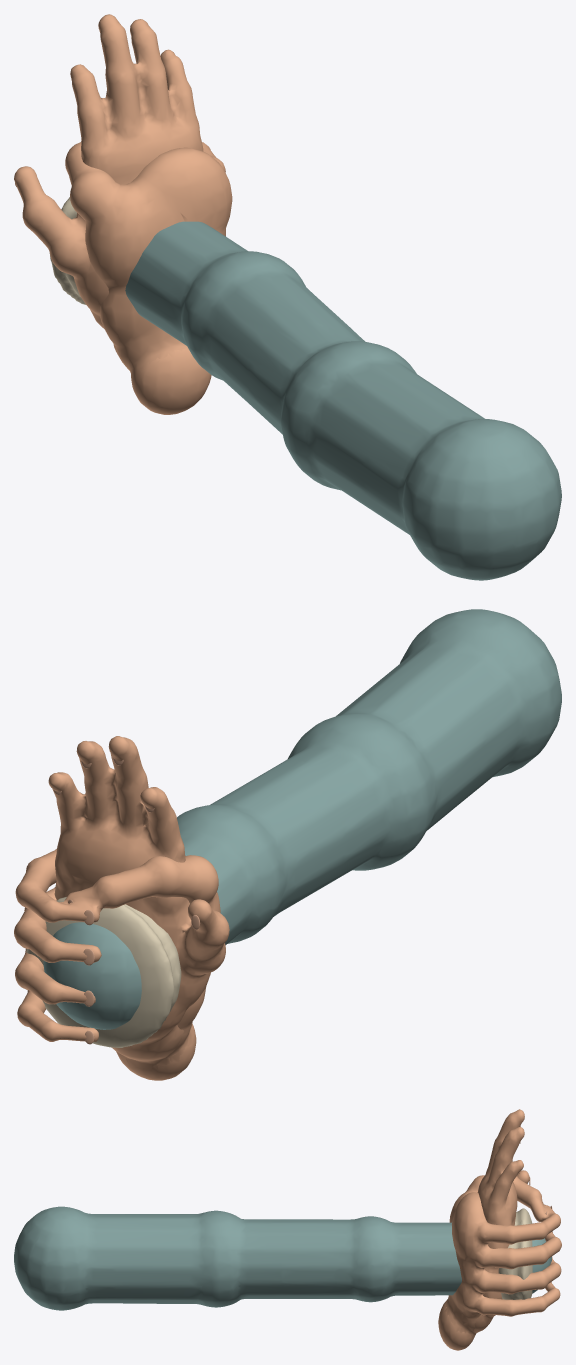
The model's file is first_person_hands.glb.
The picture shows the model from 3 angles, top to bottom: view 1: azimuth 30°, elevation 25°; view 2: azimuth 150°, elevation 25°; view 3: azimuth 270°, elevation 25°; orthographic projection. The views are drawn at different scales.
Parts seen in each view (by area): view 1: ArmSleeve, RelaxedHand, GripHand, Cuff; view 2: ArmSleeve, RelaxedHand, GripHand, Cuff; view 3: ArmSleeve, GripHand, RelaxedHand, Cuff.
Boxes of the visible parts, <box> form: ArmSleeve: <box>125,221,561,580</box>; RelaxedHand: <box>14,14,211,414</box>; GripHand: <box>65,141,232,413</box>; Cuff: <box>49,197,85,304</box>; ArmSleeve: <box>43,609,561,1029</box>; RelaxedHand: <box>48,736,229,1080</box>; GripHand: <box>14,849,220,1080</box>; Cuff: <box>26,897,181,1047</box>; ArmSleeve: <box>14,1206,551,1310</box>; GripHand: <box>439,1175,561,1349</box>; RelaxedHand: <box>438,1109,529,1350</box>; Cuff: <box>498,1208,532,1299</box>.
Size of the model in its own units: 0.1542 by 0.2829 by 0.6027.
